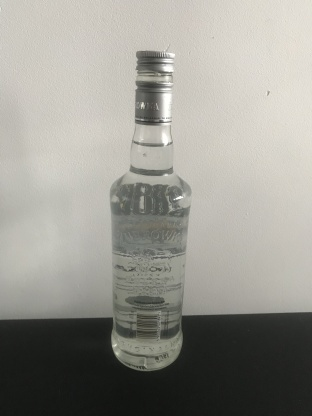nakretka: (133, 46, 176, 125)
